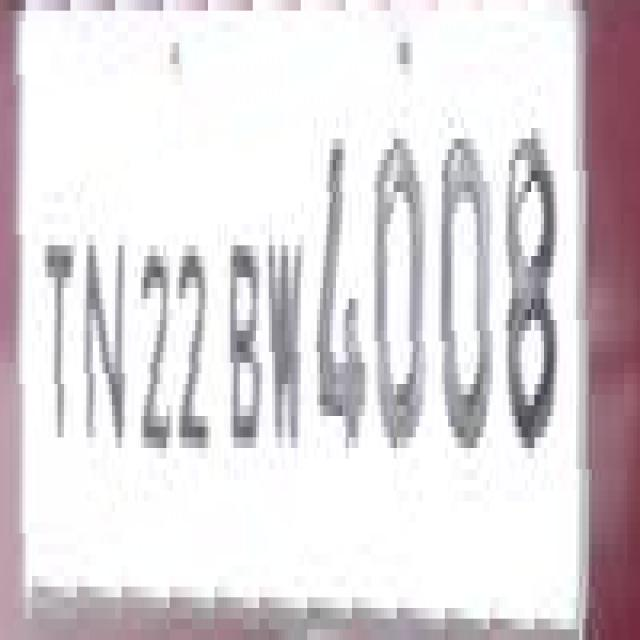license_plate: (6, 0, 608, 587)
